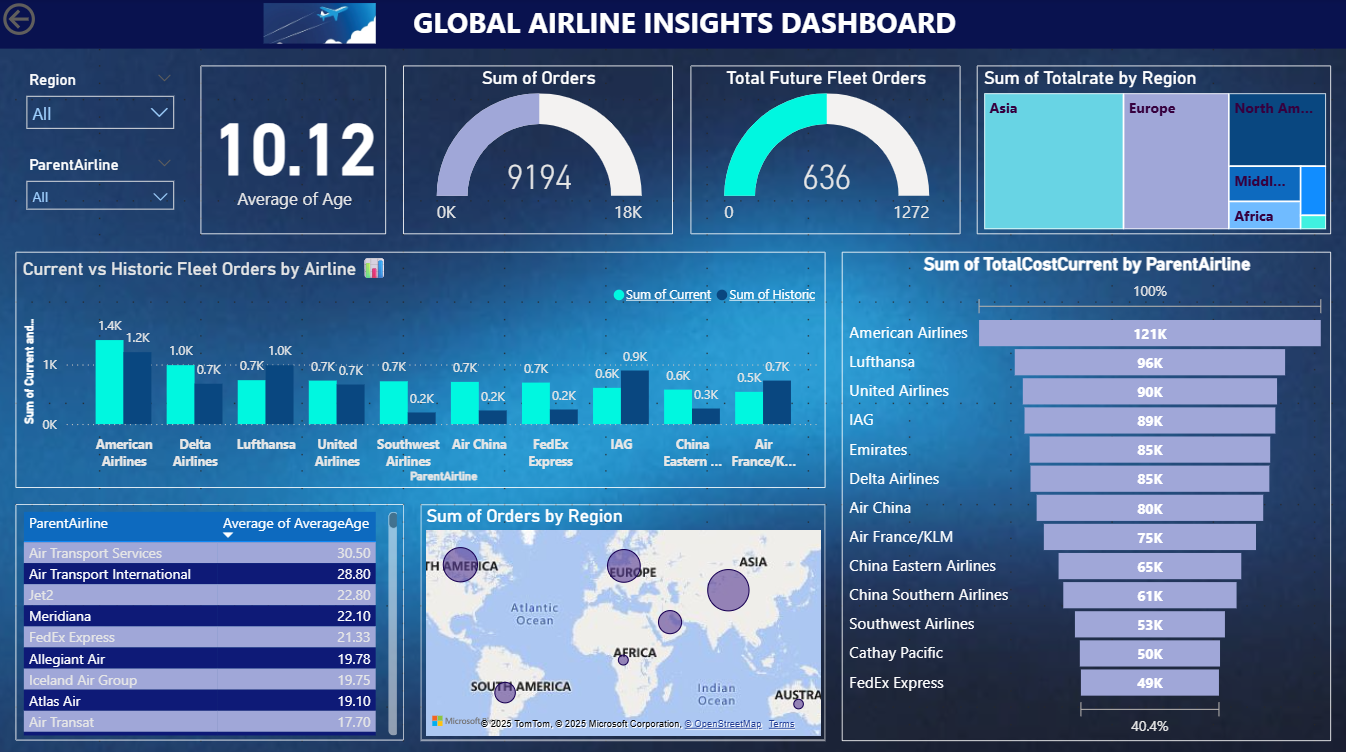

Layout of this report page (visuals, bound fields, positions):
{"tool":"powerbi","page":{"name":"Page 1","canvas":[1280,720],"ordinal":0},"visuals":[{"type":"textbox","box":[0,0,1280,48],"z":0},{"type":"slicer","fields":{"Values":["Fleet_Reg.Region"]},"box":[16,448,1248,80],"z":1000},{"type":"funnel","fields":{"Category":["Fleet_Reg.ParentAirline"],"Y":["Sum(Fleet_Reg.TotalCost(Current))"]},"box":[672,64,592,368],"z":2000},{"type":"gauge","fields":{"Y":["Sum(Fleet_Reg.Future)"]},"box":[32,544,368,160],"z":3000},{"type":"gauge","fields":{"Y":["Sum(Fleet_Reg.Orders)"]},"box":[912,544,352,160],"z":4000},{"type":"card","fields":{"Values":["Avg(Fleet_Reg.AverageAge)"]},"box":[448,544,416,160],"z":5000},{"type":"columnChart","fields":{"Category":["Fleet_Reg.ParentAirline"],"Y":["Sum(Fleet_Reg.Current)","Sum(Fleet_Reg.Historic)"]},"box":[16,64,624,368],"z":6000}]}

Visuals, with their boxes in screenshot pixels (x1, y1, x2, y2), scaled from the page's 1280x720 canvas onto the 1346x752 screenshot:
textbox: <region>0, 0, 1345, 50</region>
slicer - Fleet_Reg.Region: <region>17, 468, 1329, 551</region>
funnel - Fleet_Reg.ParentAirline x Sum(Fleet_Reg.TotalCost(Current)): <region>707, 67, 1329, 451</region>
gauge - Sum(Fleet_Reg.Future): <region>34, 568, 421, 735</region>
gauge - Sum(Fleet_Reg.Orders): <region>959, 568, 1329, 735</region>
card - Avg(Fleet_Reg.AverageAge): <region>471, 568, 909, 735</region>
columnChart - Fleet_Reg.ParentAirline x Sum(Fleet_Reg.Current): <region>17, 67, 673, 451</region>
